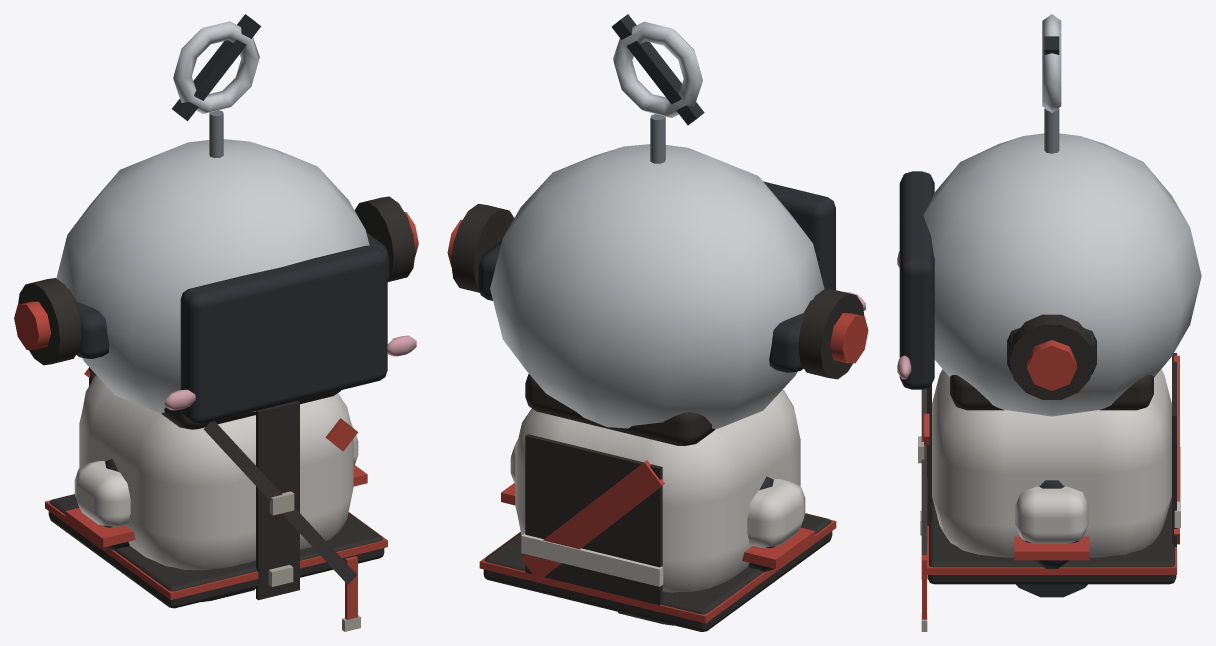
File: grok-v1-rigged-meshopt.glb
3 views of the same model, side by side, from view 1: azimuth 30°, elevation 25°; view 2: azimuth 150°, elevation 25°; view 3: azimuth 270°, elevation 25° (orthographic). The views are drawn at different scales.
Visible parts, largest first — view 1: head-mesh, body-mesh, face-mesh, antenna-mesh, armR-mesh; view 2: head-mesh, body-mesh, antenna-mesh, armR-mesh, face-mesh; view 3: head-mesh, body-mesh, face-mesh, armL-mesh, antenna-mesh, wheel-mesh.
Part boxes in pixels (<box>): head-mesh: <box>14,139,418,413</box>; body-mesh: <box>45,367,387,631</box>; face-mesh: <box>180,245,387,424</box>; antenna-mesh: <box>172,14,260,157</box>; armR-mesh: <box>65,458,135,550</box>; head-mesh: <box>447,144,868,429</box>; body-mesh: <box>479,374,836,631</box>; antenna-mesh: <box>611,14,704,163</box>; armR-mesh: <box>742,476,814,571</box>; face-mesh: <box>763,181,835,289</box>; head-mesh: <box>897,133,1201,416</box>; body-mesh: <box>918,353,1180,631</box>; face-mesh: <box>899,171,934,389</box>; armL-mesh: <box>1014,480,1089,568</box>; antenna-mesh: <box>1042,14,1061,153</box>; wheel-mesh: <box>1016,584,1087,597</box>.
Bounding box in the file's own units: 1.07 × 1.55 × 0.7441.
